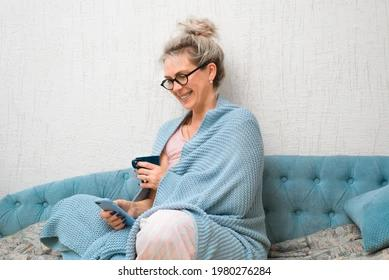blanket: (39, 96, 272, 260)
trousers: (134, 209, 197, 260)
